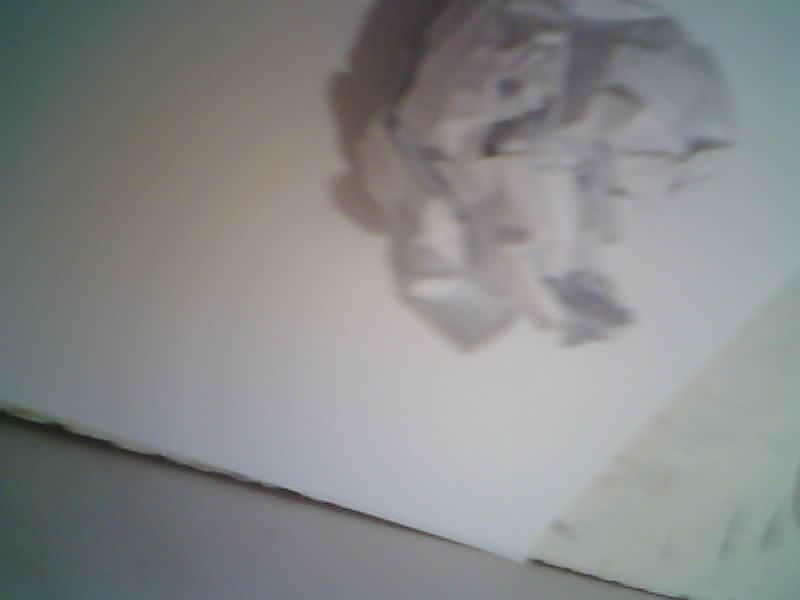biodegradable: (360, 0, 734, 349)
